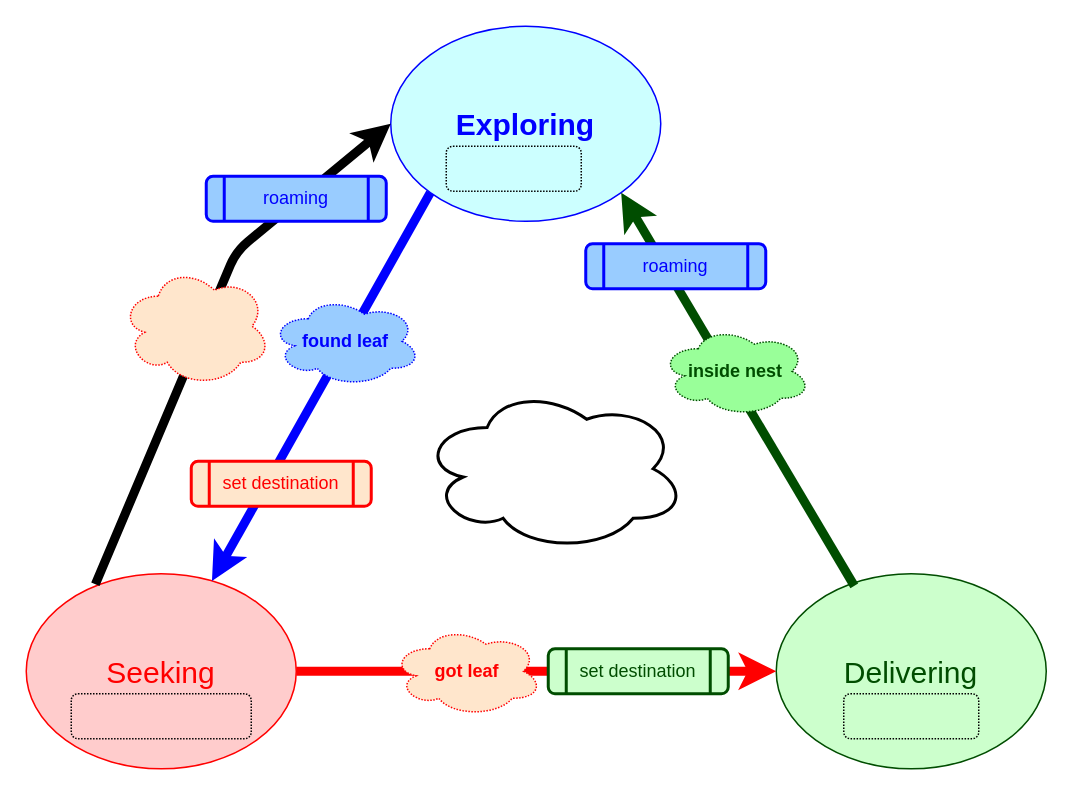
This 1073x795 diagram has some shape labels left out. Here are the shapes that lost their labels. From the top down, the centre of each, then its label:
At (513,168): "random walk".
At (195,325): "leaf gone".
At (552,468): "conditions".
At (160,715): "heading toward leaf".
At (910,715): "carry to nest".
